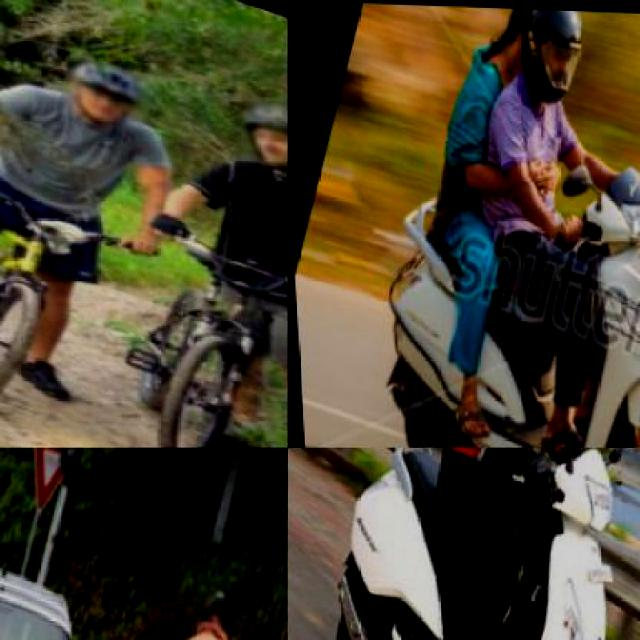With Helmet: (502, 6, 602, 119), (51, 47, 157, 136), (226, 89, 286, 185), (183, 569, 243, 636)
